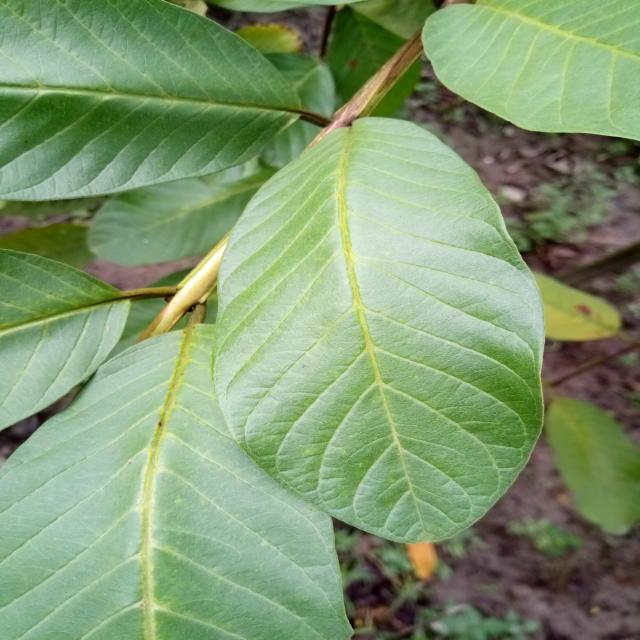Disease Free: (213, 118, 543, 542), (2, 324, 352, 640), (2, 0, 300, 200), (87, 120, 320, 265), (422, 0, 638, 139), (0, 250, 128, 428), (265, 54, 337, 116)
